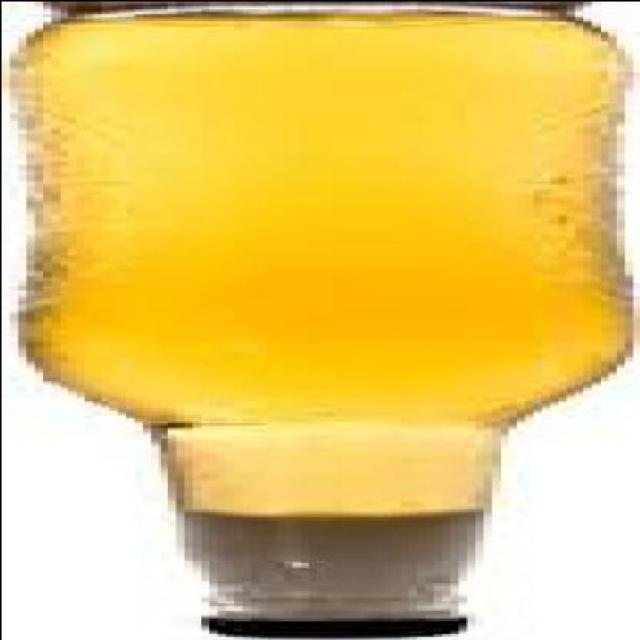GLASS: (8, 2, 614, 620)
METAL: (200, 620, 458, 638)
